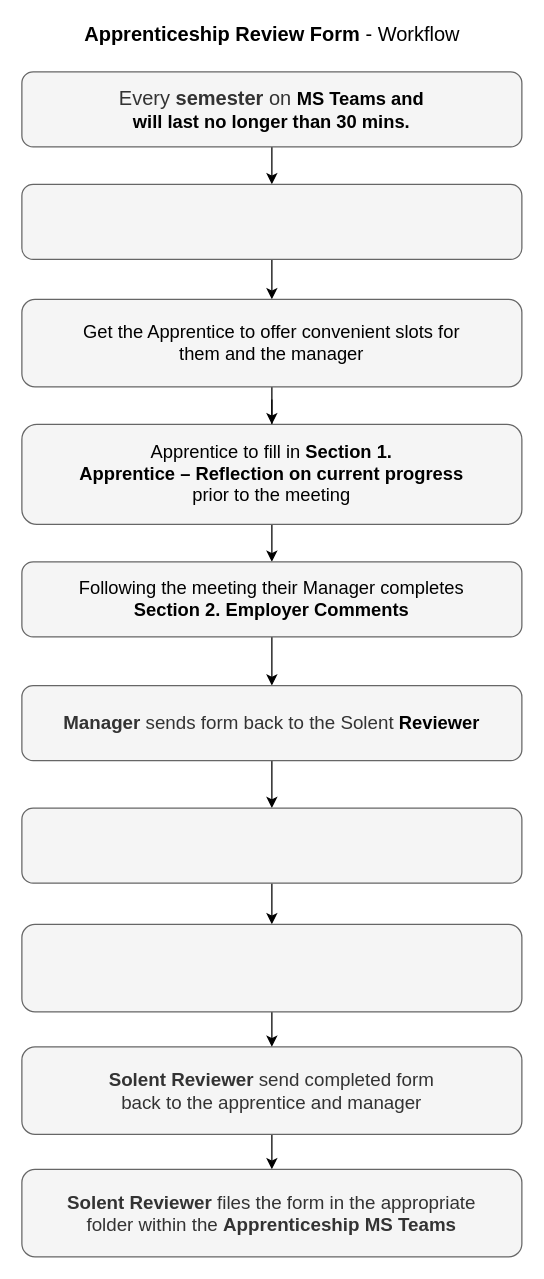
The diagram is 544 pixels wide and 1279 high, and some of its shapes have lost their labels. Each missing label, with the centre of its shape:
Solent Reviewer completes Section 3 - Update & Summary: (x=271, y=967)
Solent Reviewer resolves any issues: (x=271, y=845)
With Solent Reviewer, Apprentice and their Manager: (x=271, y=221)
